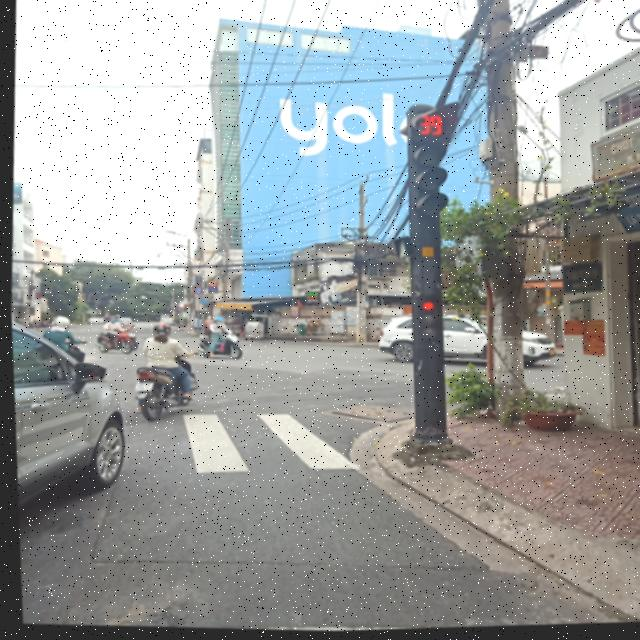Red: (407, 294, 443, 342)
